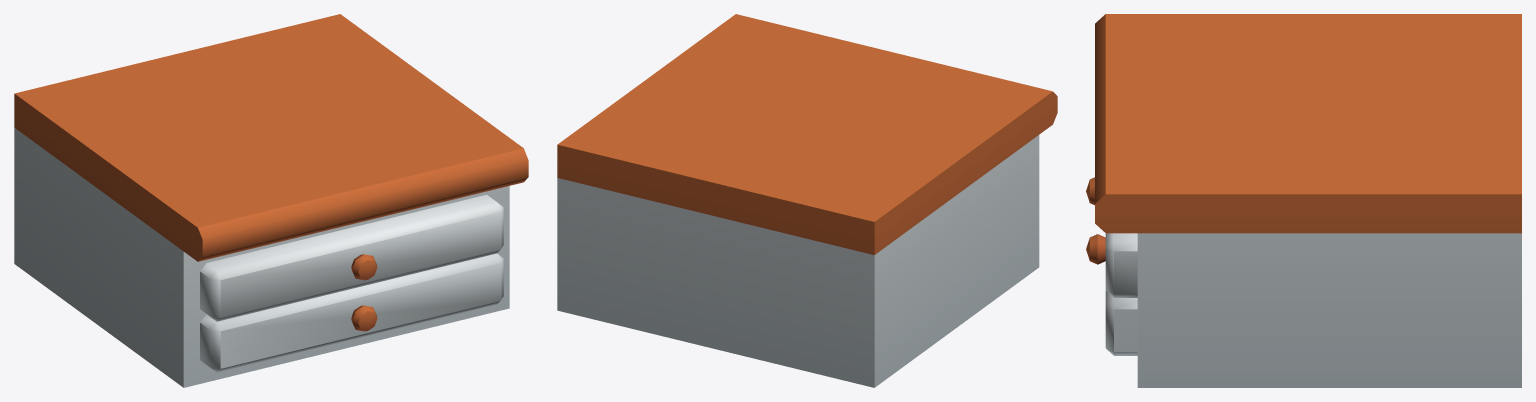
Rendered from counter.glb.
3 views of the same model, side by side, from view 1: azimuth 30°, elevation 25°; view 2: azimuth 150°, elevation 25°; view 3: azimuth 270°, elevation 25° (orthographic). The views are drawn at different scales.
Visible parts, largest first — view 1: kitchencounter_straight_A; view 2: kitchencounter_straight_A; view 3: kitchencounter_straight_A.
Part boxes in pixels (x1,y1,x2,y2): kitchencounter_straight_A: [14, 14, 528, 387]; kitchencounter_straight_A: [557, 14, 1057, 387]; kitchencounter_straight_A: [1086, 14, 1521, 387].
Size of the model in its own units: 2 by 1 by 2.04.
1 material, 1 textured.
